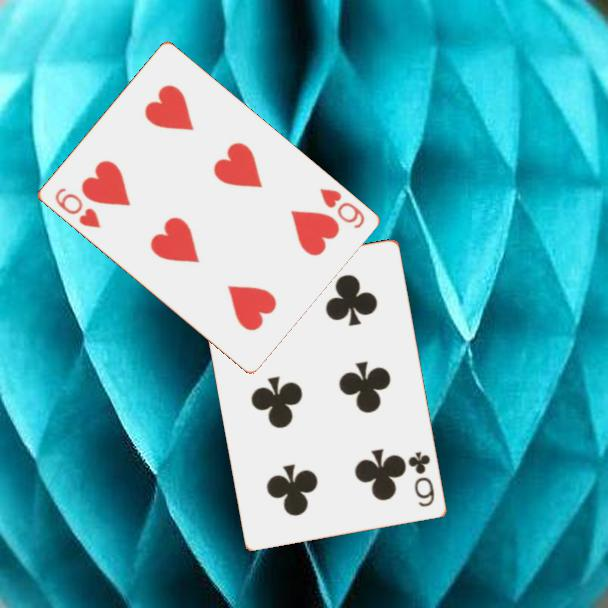c06: (405, 448, 438, 510)
h06: (316, 184, 367, 232), (51, 184, 103, 231)
